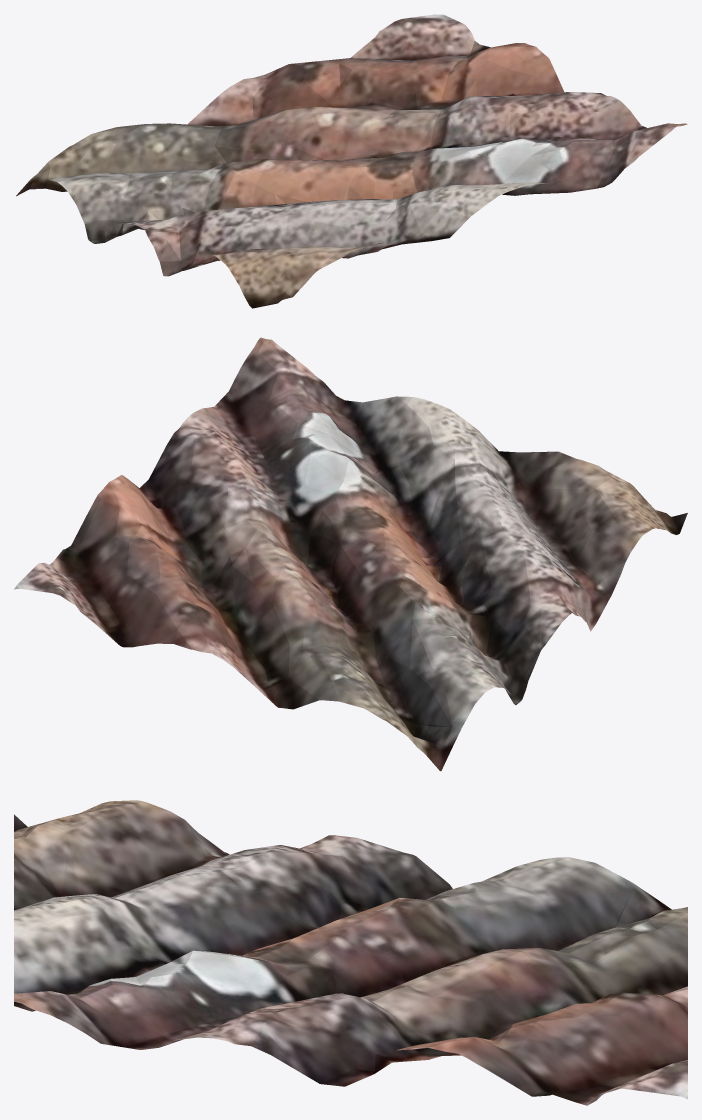
3 renders of one model, top to bottom at view 1: azimuth 30°, elevation 25°; view 2: azimuth 150°, elevation 25°; view 3: azimuth 270°, elevation 25°, orthographic. The views are drawn at different scales.
Size of the model in its own units: 0.8373 by 0.2802 by 0.8373.
Materials: 3 (3 with a texture image).
